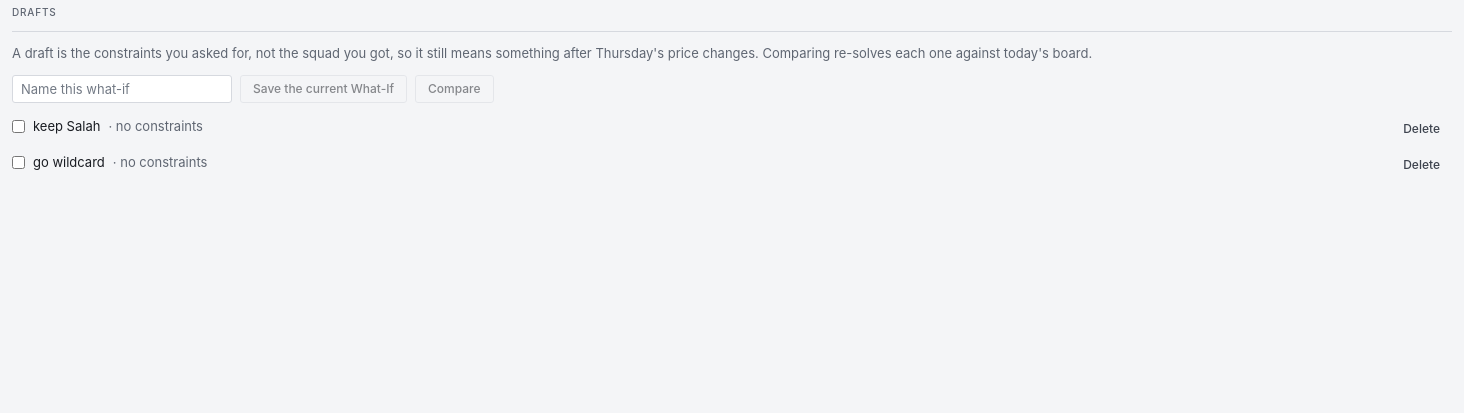
Test case: DraftsTab › says which weeks a shortened comparison was scored over
Step 1. Click the checkbox named "compare keep Salah" → {"x": 18, "y": 126}, box x1=12 y1=120 x2=25 y2=133
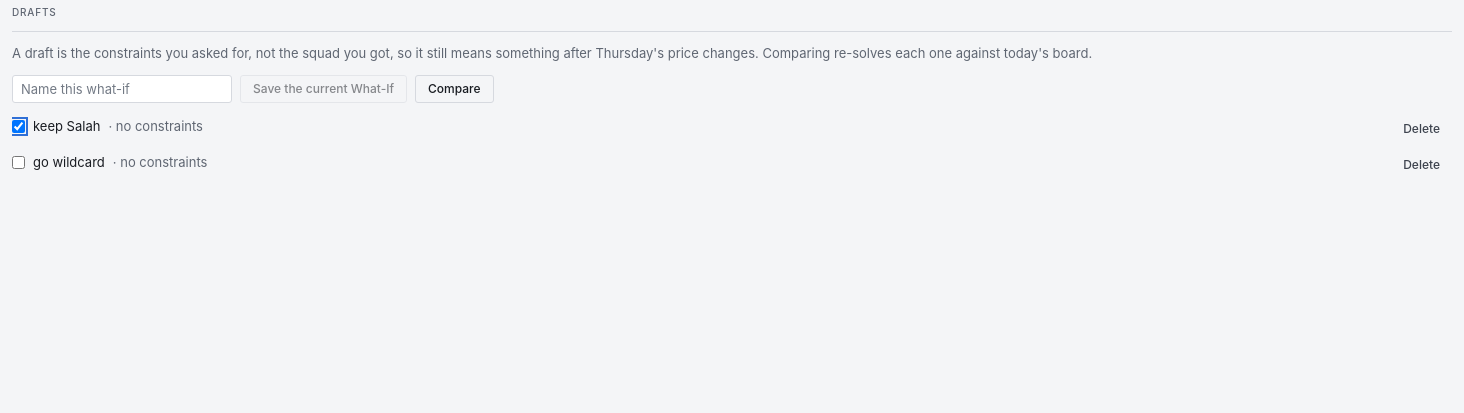
Step 2. Click the button "Compare" → {"x": 454, "y": 89}, box x1=415 y1=75 x2=494 y2=103
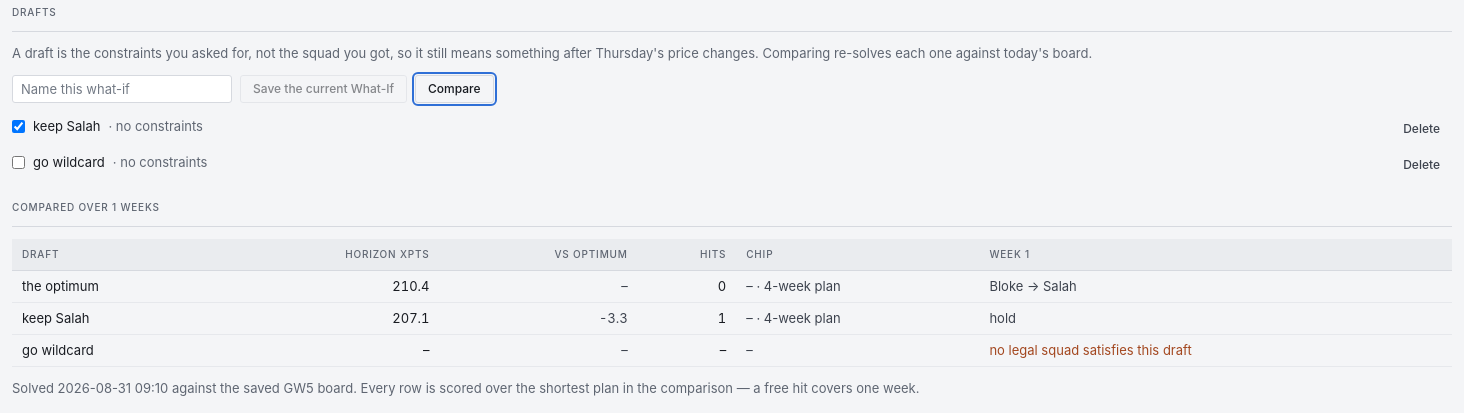
Check: the text "shortest plan in the comparison" is shown, box x1=357 y1=380 x2=920 y2=396
Check: the text "– · 4-week plan" is shown 2 times, box x1=736 y1=271 x2=979 y2=303; x1=736 y1=303 x2=979 y2=335
